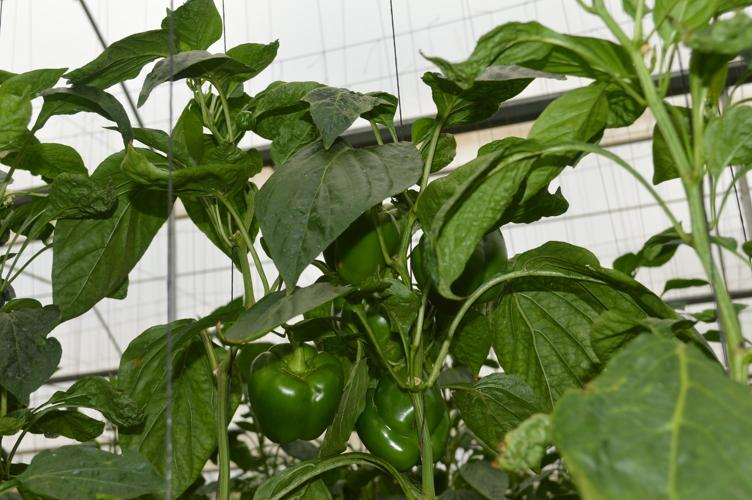BellPepper: (251, 344, 343, 439), (354, 369, 446, 462), (407, 226, 507, 301), (341, 291, 433, 361), (325, 213, 403, 283)
